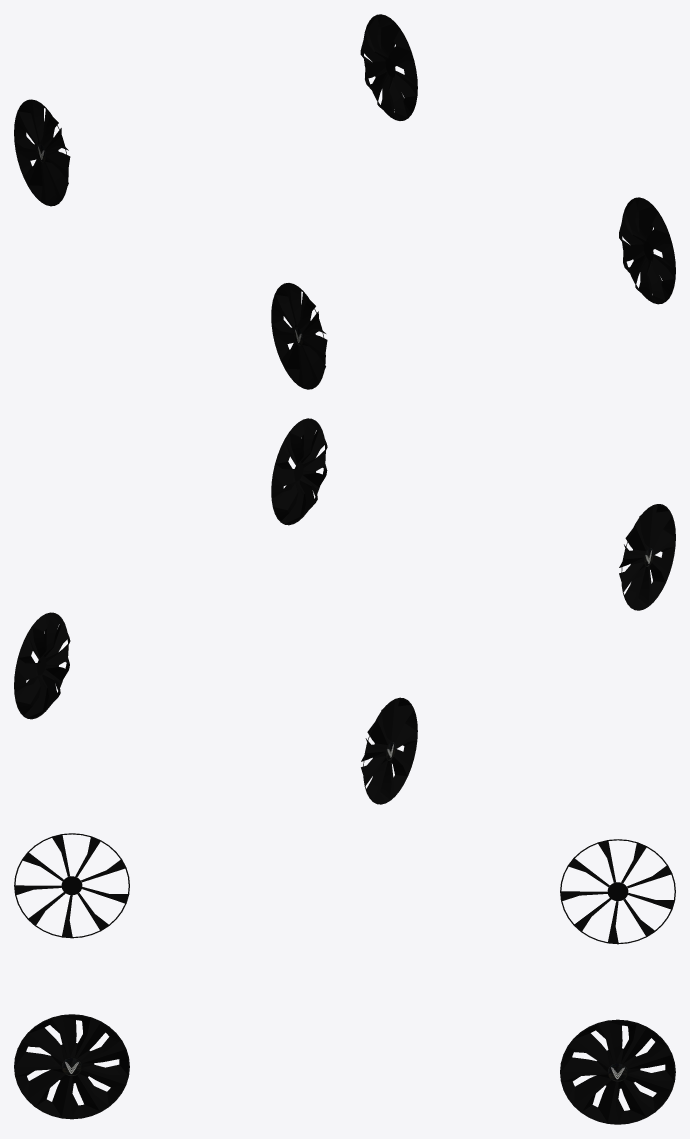
3 renders of one model, top to bottom at view 1: azimuth 30°, elevation 25°; view 2: azimuth 150°, elevation 25°; view 3: azimuth 270°, elevation 25°, orthographic. The views are drawn at different scales.
Parts seen in each view (by area): view 1: 1; view 2: 1; view 3: 1.
Part boxes in pixels (x1,y1,x2,y2): 1: (14, 14, 675, 389); 1: (14, 418, 675, 804); 1: (14, 833, 675, 1124).
Bounding box in the file's own units: 0.9838 × 0.2804 × 1.52.
3 materials, 1 textured.
